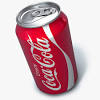coca_cola_can: (14, 1, 79, 95)
